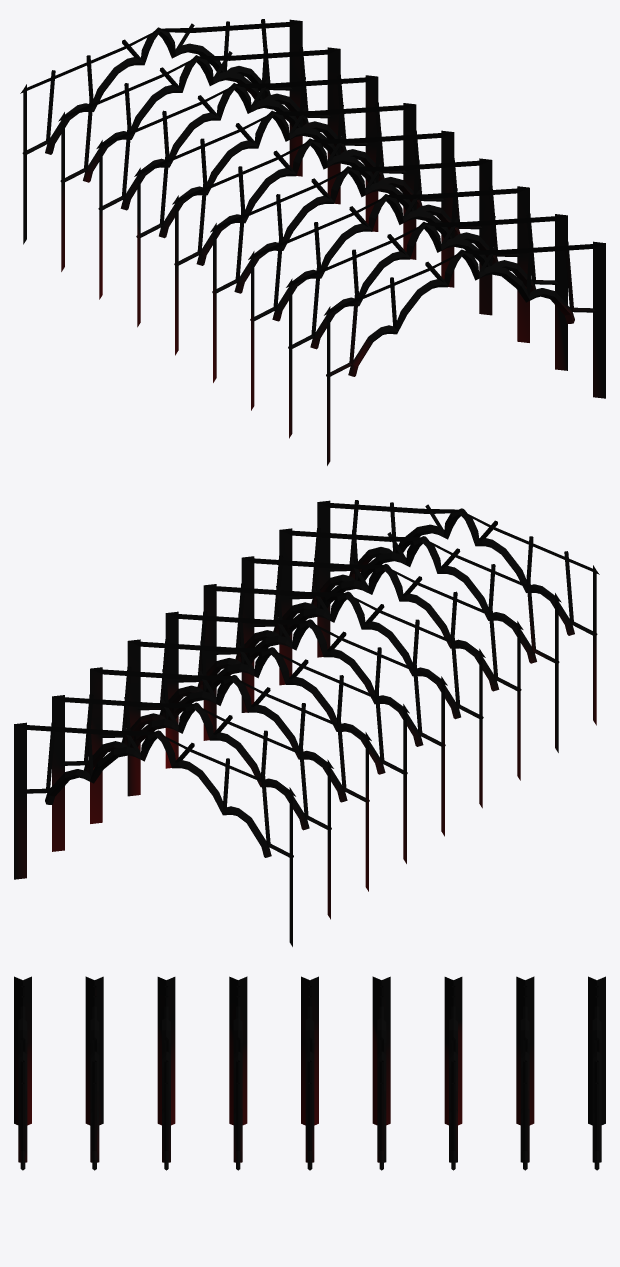
Rendered from MainHallSupport_export.obj.
The picture shows the model from 3 angles, top to bottom: view 1: azimuth 30°, elevation 25°; view 2: azimuth 150°, elevation 25°; view 3: azimuth 270°, elevation 25°; orthographic projection. The views are drawn at different scales.
Parts seen in each view (by area): view 1: MainHallSupport; view 2: MainHallSupport; view 3: MainHallSupport.
Boxes of the visible parts, box(x1,y1,x2,y2) form: MainHallSupport: box(20, 19, 605, 465); MainHallSupport: box(14, 500, 599, 946); MainHallSupport: box(14, 976, 605, 1170).
Size of the model in its own units: 17 by 10.49 by 33.
